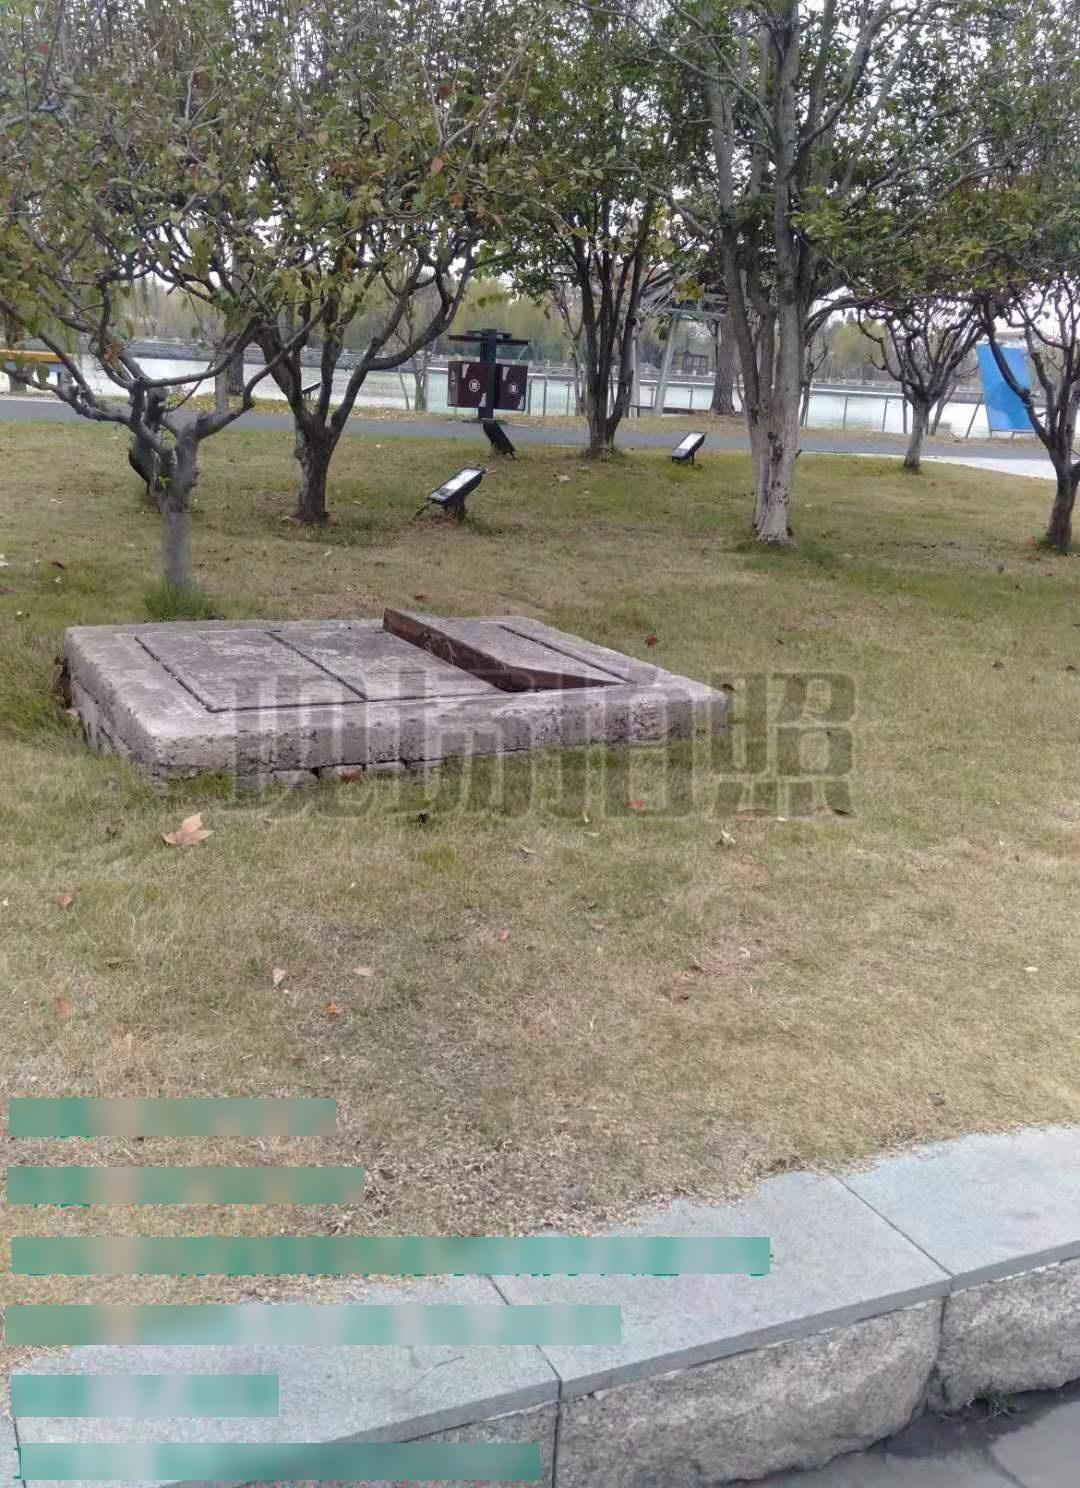wellcover: (55, 579, 746, 793)
